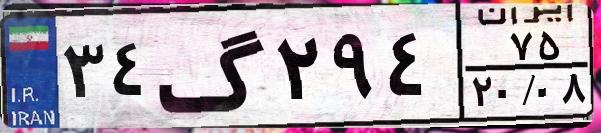0: (495, 70, 520, 125), (535, 70, 560, 125)
2: (270, 28, 330, 110), (470, 70, 495, 125)
3: (57, 26, 110, 100)
4: (385, 28, 445, 110), (110, 28, 156, 98)
5: (537, 27, 568, 80)
7: (508, 27, 537, 80)
8: (560, 70, 590, 125)
9: (330, 28, 385, 110)
گ: (156, 12, 270, 120)
